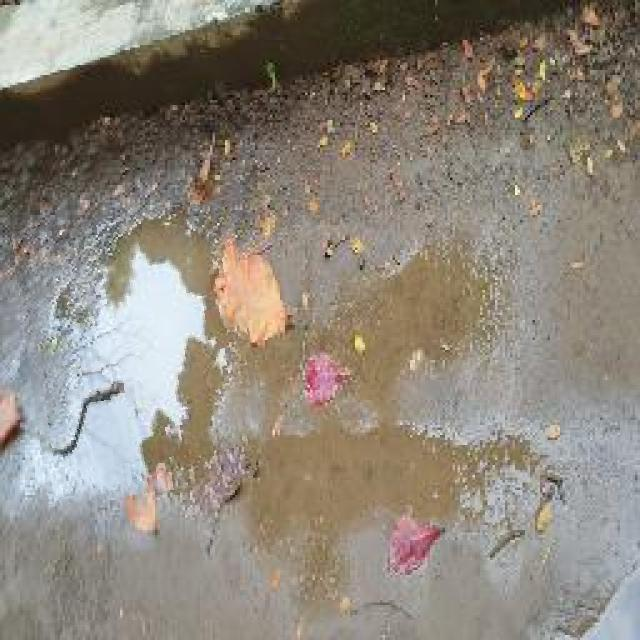puddle: (21, 207, 262, 501)
